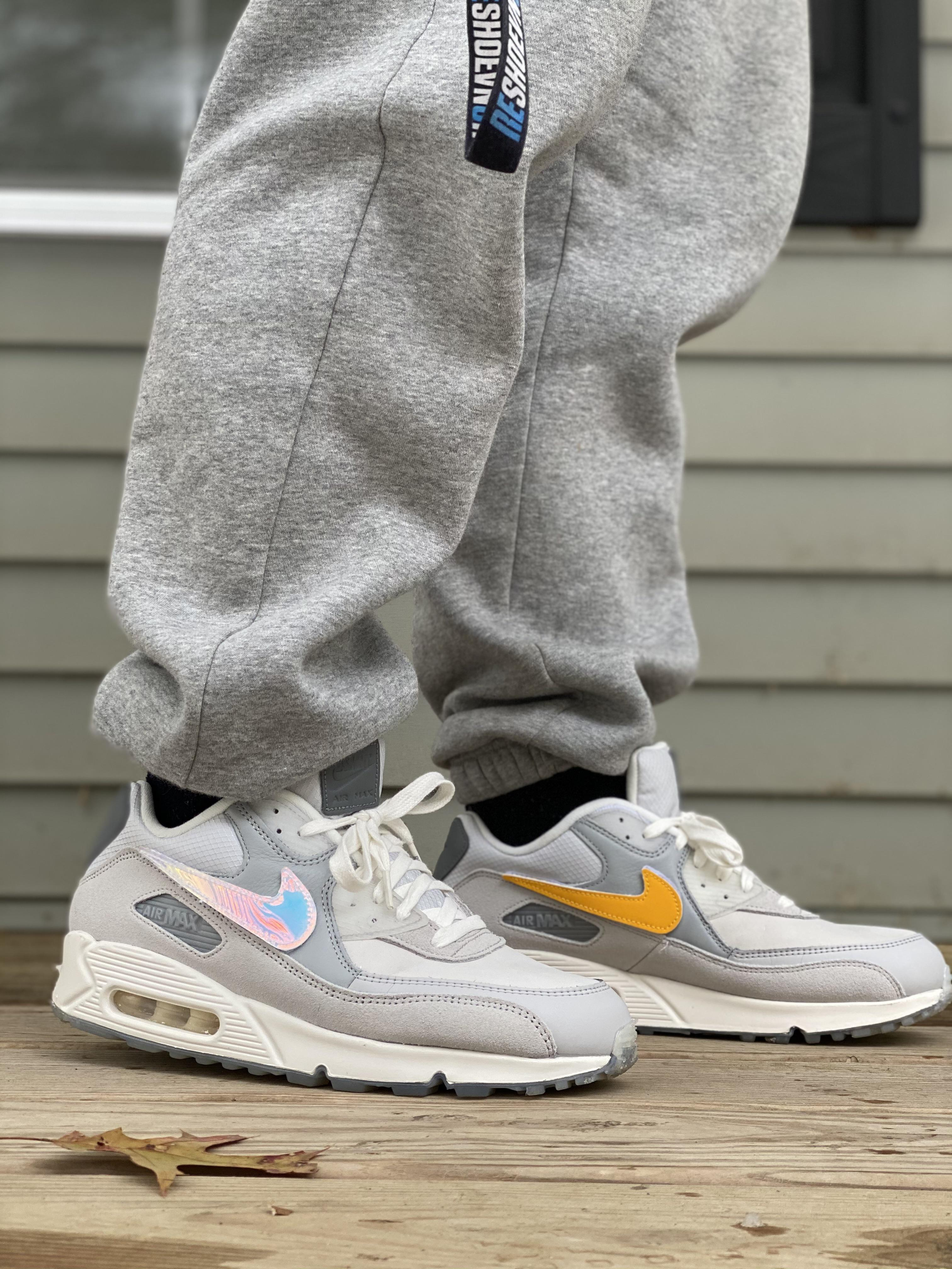sneaker: (53, 784, 642, 1094), (450, 746, 952, 1040)
